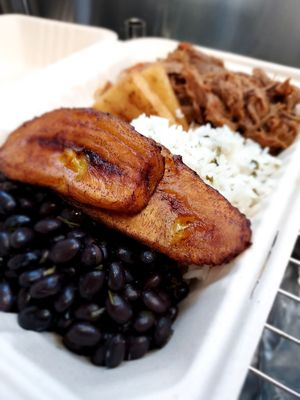soup: (0, 107, 165, 214)
